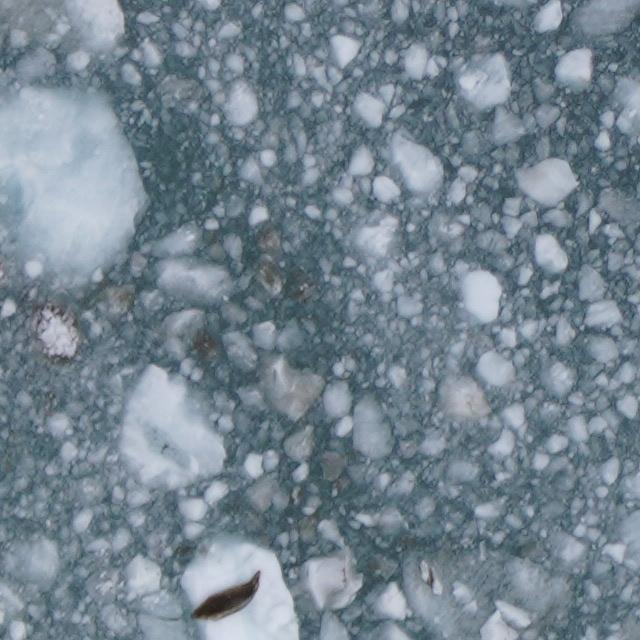seal: (186, 565, 265, 625)
